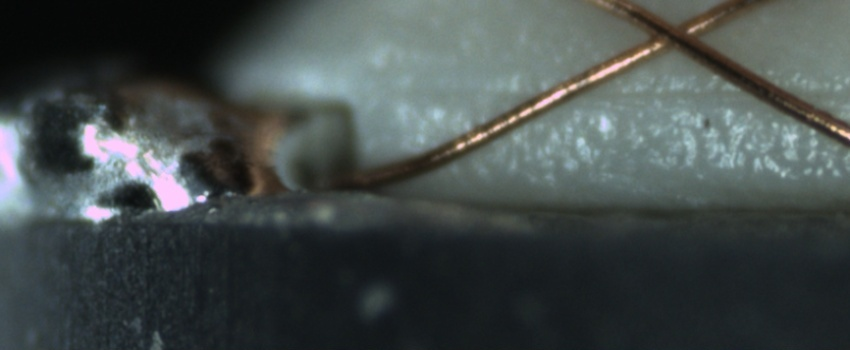CL: (625, 3, 717, 62)
DL: (420, 65, 850, 121)
